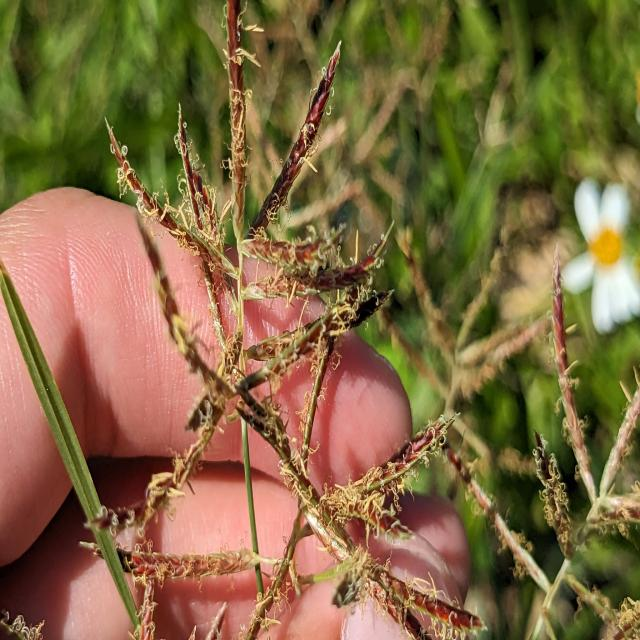cyperus: (83, 0, 485, 640), (463, 250, 640, 640)
